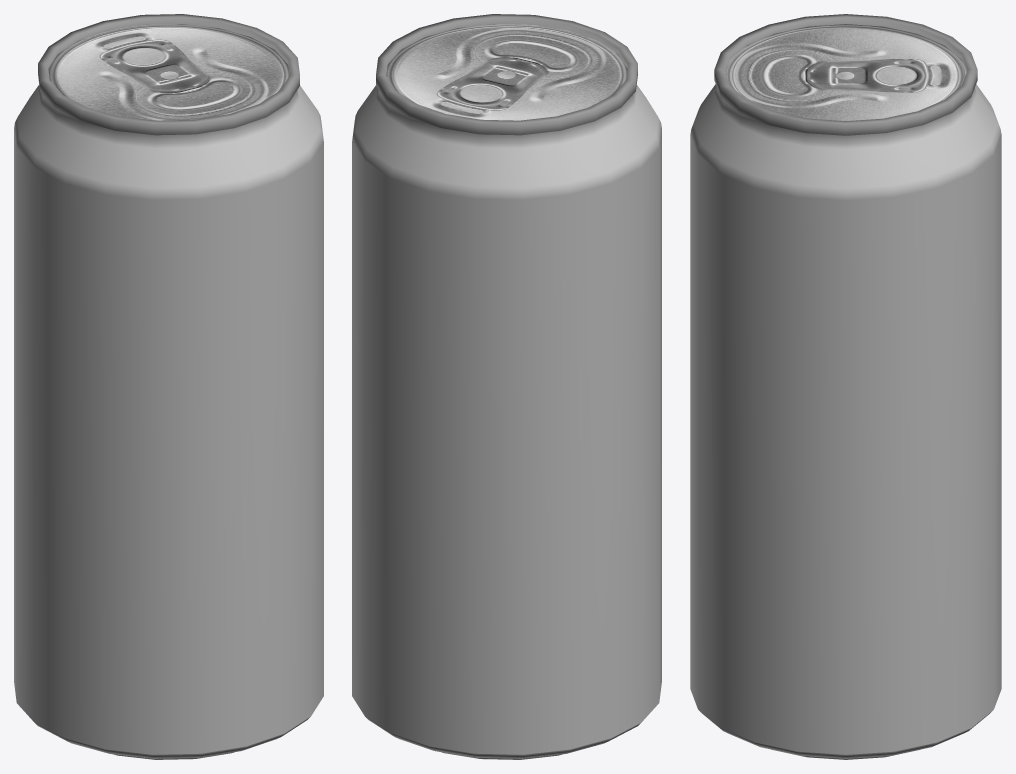
File: Monster_Can.fbx
3 renders of one model, left to right at view 1: azimuth 30°, elevation 25°; view 2: azimuth 150°, elevation 25°; view 3: azimuth 270°, elevation 25°, orthographic.
Parts seen in each view (by area): view 1: pCylinder1; view 2: pCylinder1; view 3: pCylinder1.
Boxes of the visible parts, left/top/right/bottom form: pCylinder1: left=14, top=14, right=323, bottom=759; pCylinder1: left=352, top=14, right=661, bottom=759; pCylinder1: left=690, top=14, right=1001, bottom=759.
Size of the model in its own units: 2 by 4.52 by 2.
